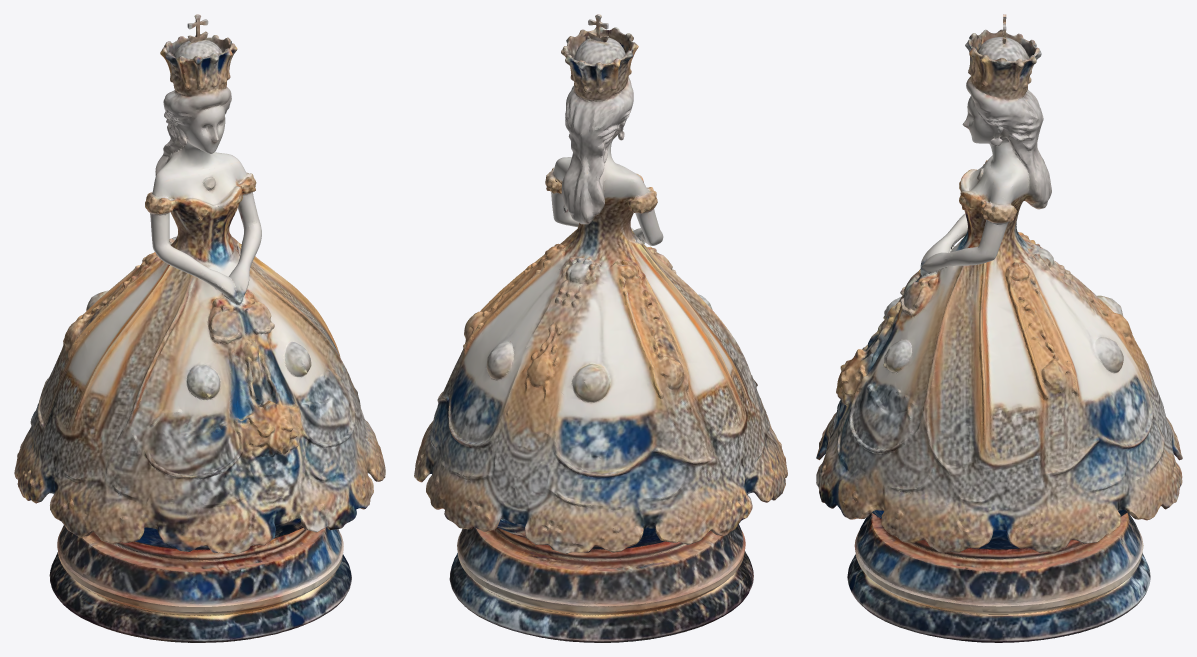
File: queen.glb
The picture shows the model from 3 angles, left to right: view 1: azimuth 30°, elevation 25°; view 2: azimuth 150°, elevation 25°; view 3: azimuth 270°, elevation 25°; orthographic projection.
Parts seen in each view (by area): view 1: model; view 2: model; view 3: model.
Boxes of the visible parts, bbox=[...] form: model: bbox=[14, 14, 385, 642]; model: bbox=[414, 14, 787, 642]; model: bbox=[816, 14, 1182, 642].
Size of the model in its own units: 1.1 by 1.9 by 1.12.
1 material, 1 textured.
